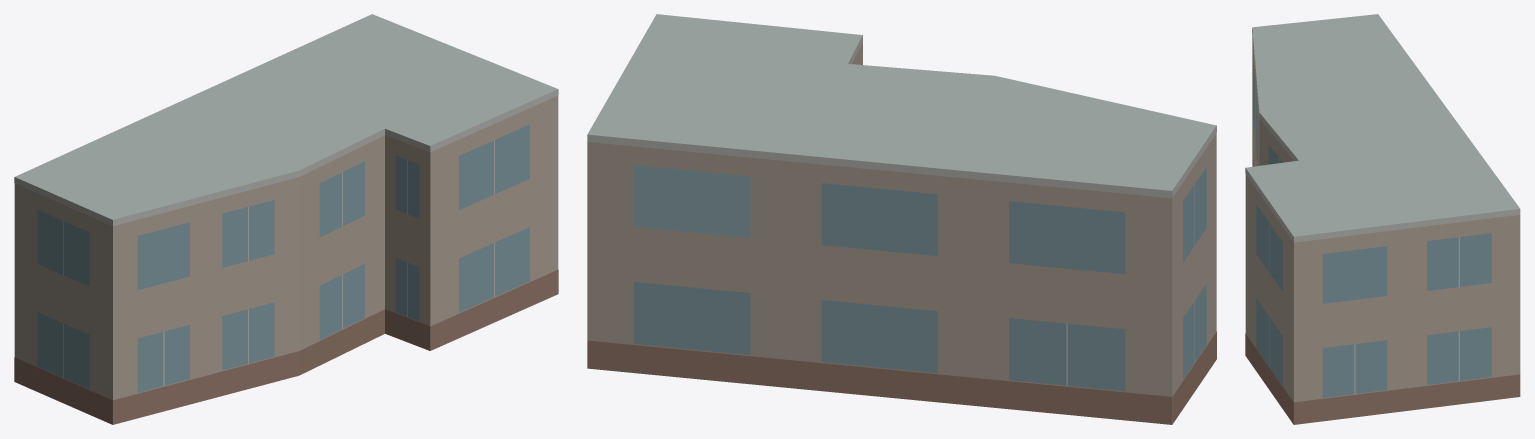
File: survey-upis-32495047.glb
3 views of the same model, side by side, from view 1: azimuth 30°, elevation 25°; view 2: azimuth 150°, elevation 25°; view 3: azimuth 270°, elevation 25° (orthographic). The views are drawn at different scales.
Parts seen in each view (by area): view 1: survey-upis-32495047.tmp; view 2: survey-upis-32495047.tmp; view 3: survey-upis-32495047.tmp.
Boxes of the visible parts, bbox=[...] form: survey-upis-32495047.tmp: bbox=[14, 14, 558, 424]; survey-upis-32495047.tmp: bbox=[587, 14, 1216, 424]; survey-upis-32495047.tmp: bbox=[1245, 14, 1520, 424].
Bounding box in the file's own units: 19.84 × 7.8 × 10.34.
